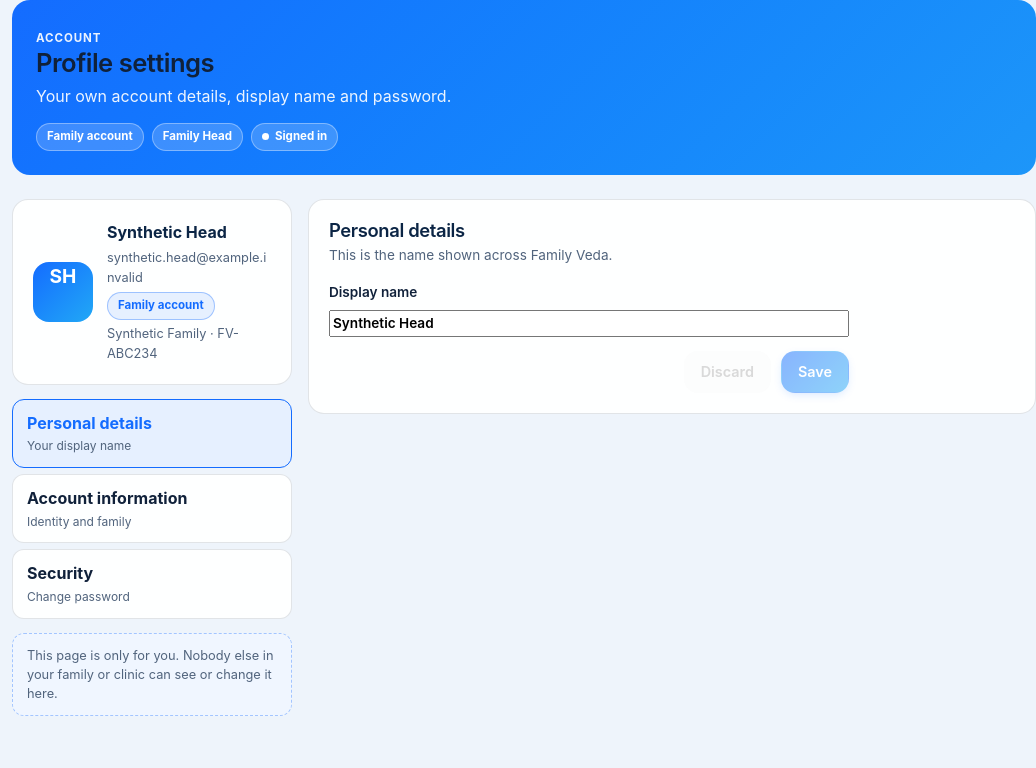
Test: ProfilePage › toggles password visibility, rates strength and blocks mismatched passwords
Click the button "Security Change password".
click(60, 573)  # box [12,549,292,619]
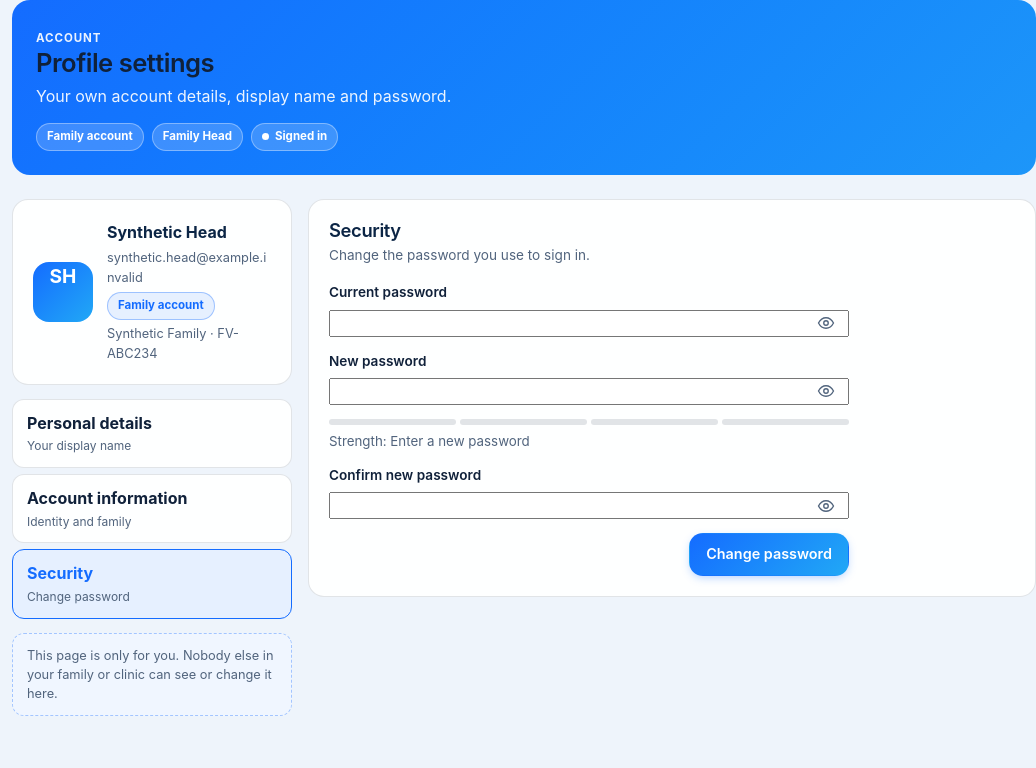
Click the button named "Show new password".
click(826, 391)  # box [809,374,843,408]
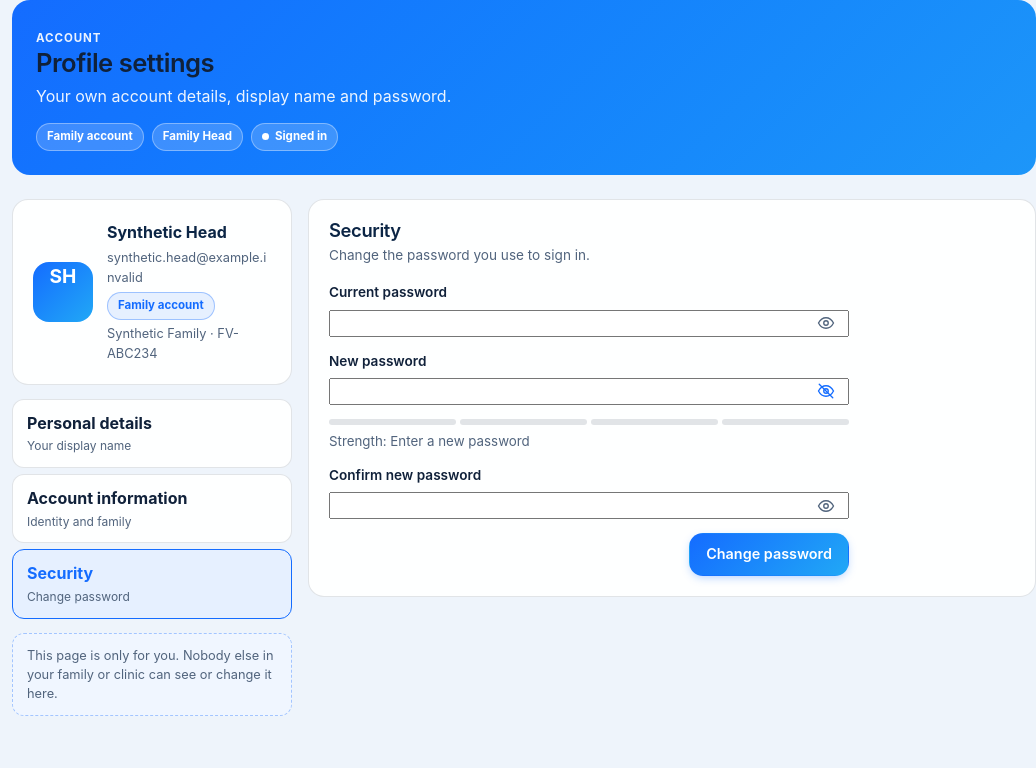
Check: the button named "Hide new password" is pressed, box [809,374,843,408]
Type "Synthetic-Pass-42!" into the field labelled "New password".
click(589, 391); type("Synthetic-Pass-42!")  # box [329,378,849,405]
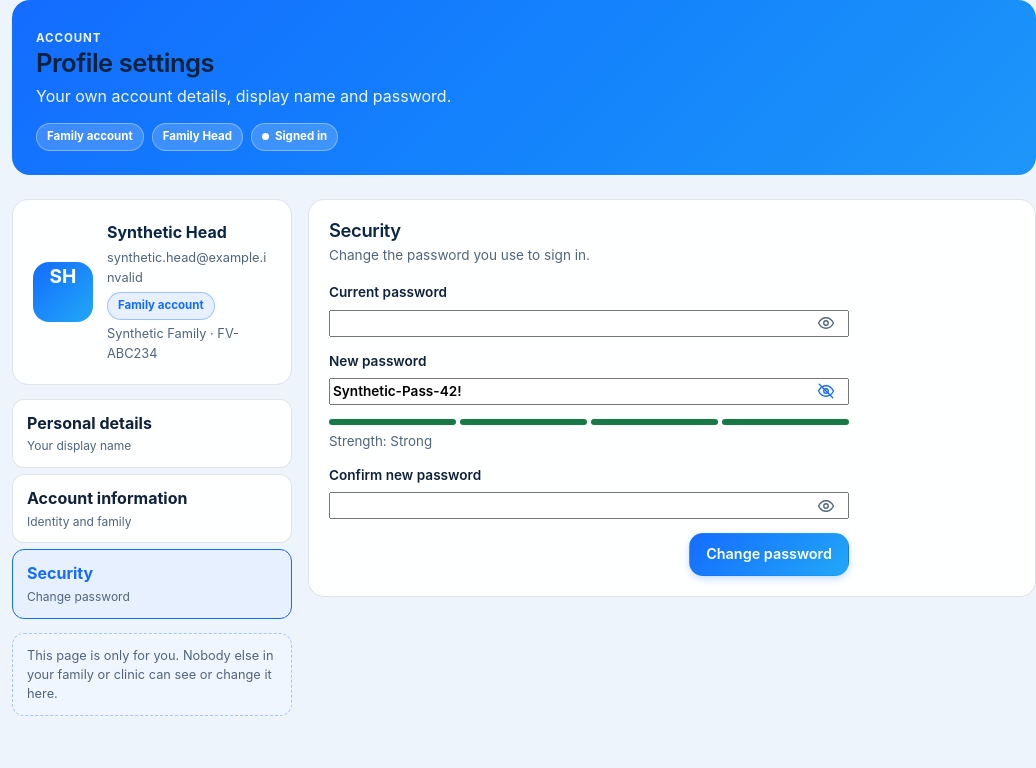
Check: the text "Strength: Strong" is shown, box [329,433,432,449]
Type "old-password" into the password field labelled "Current password".
click(589, 323); type("old-password")  # box [329,310,849,337]
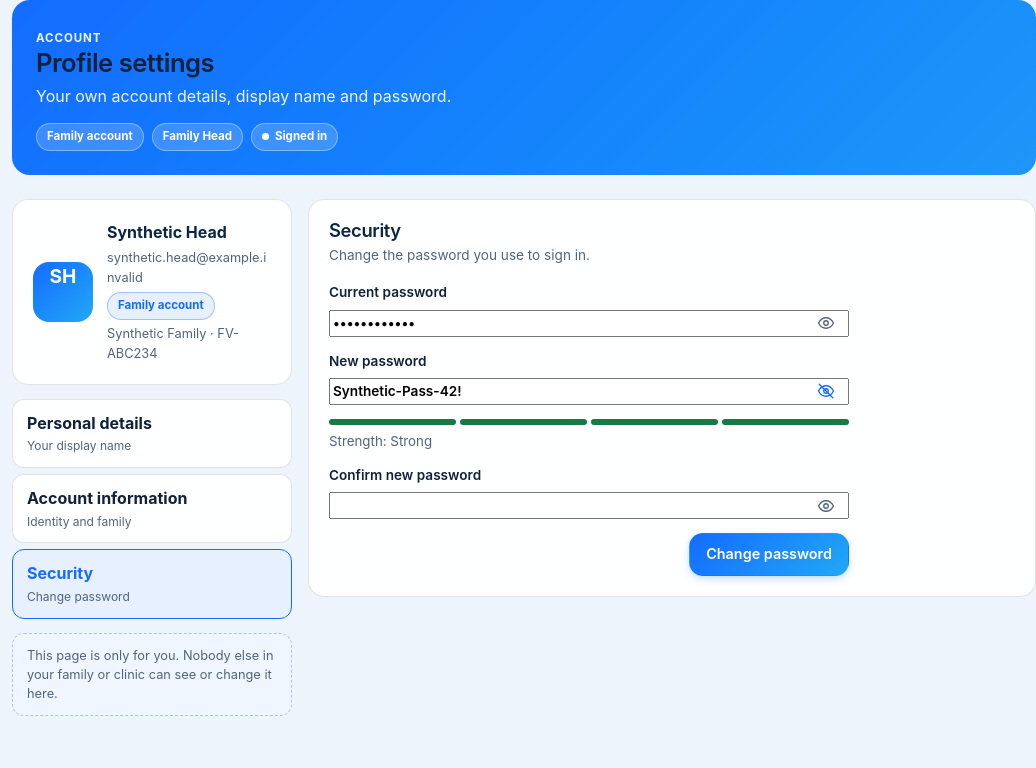
Type "different-1" into the password field labelled "Confirm new password".
click(589, 506); type("different-1")  # box [329,492,849,520]
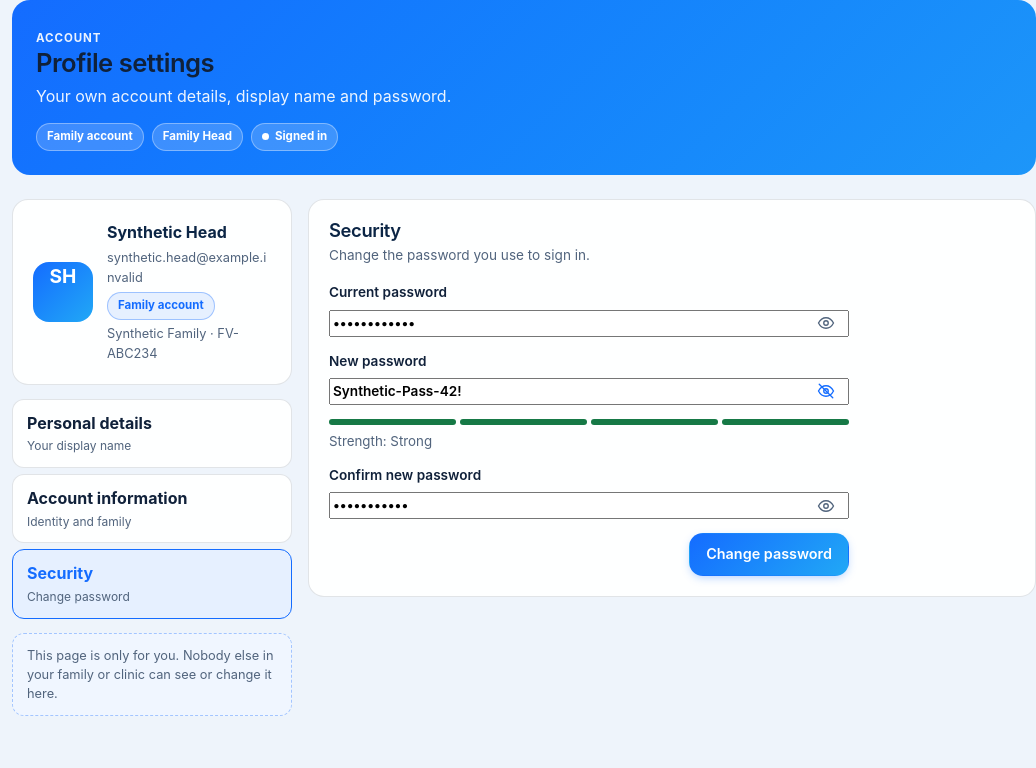
Click the button "Change password".
click(769, 555)  # box [689,534,849,576]
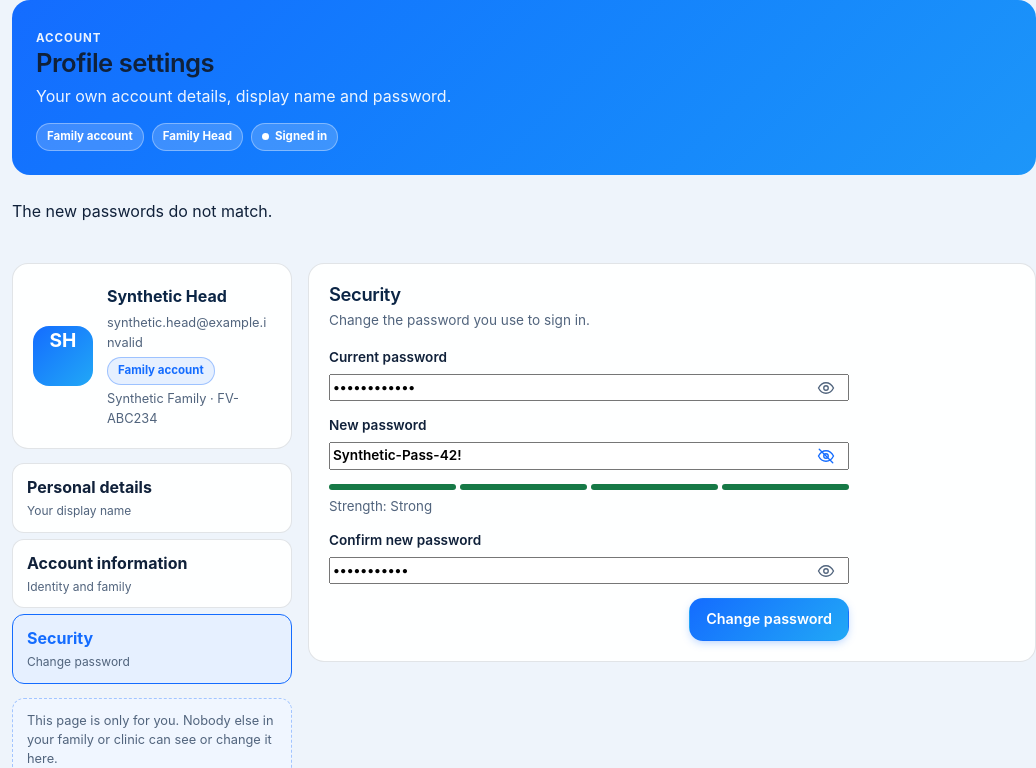
Check: the message reads "The new passwords do not match.", box [12,201,272,221]
